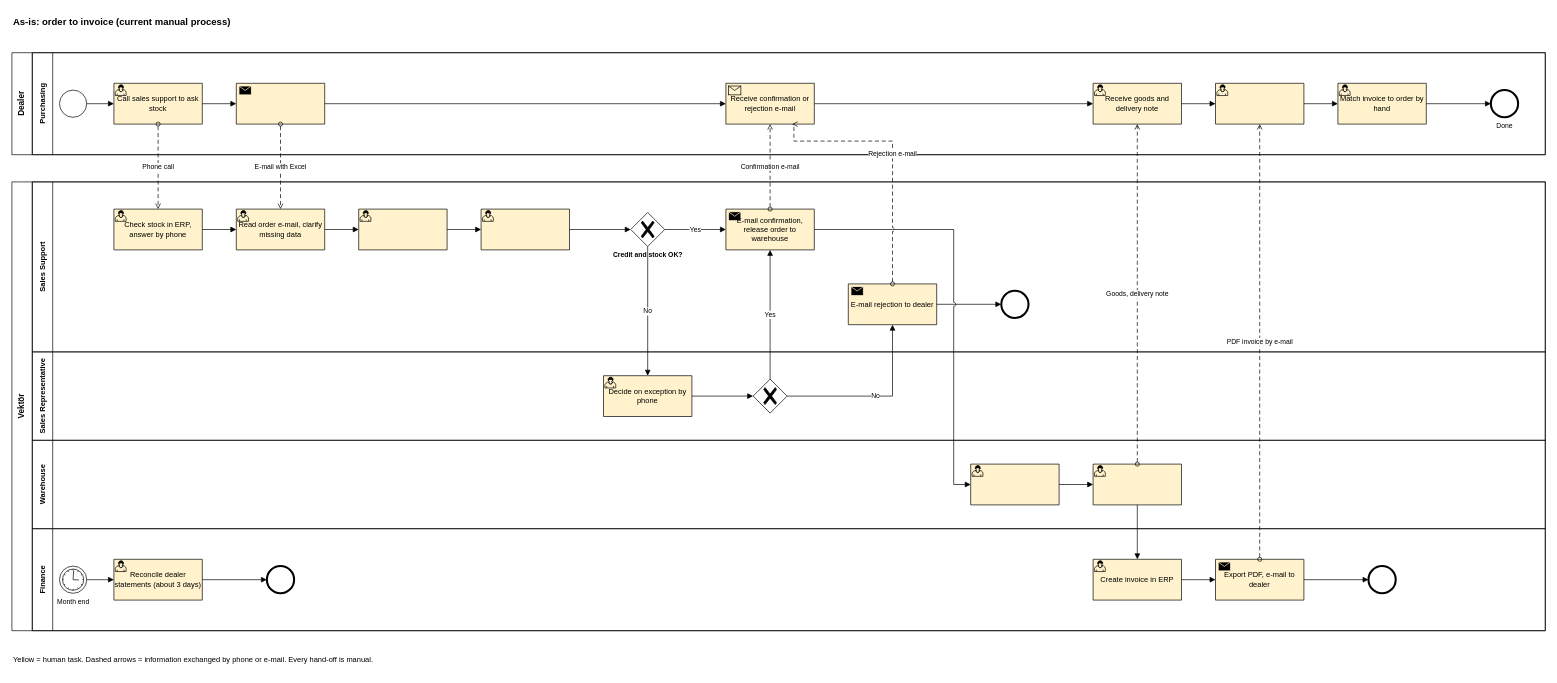
Some shapes in this 1557 by 683 pixel diagram are drawn without their labels. Here are the shapes that lost their labels. From the top down, the centre of each, then its label:
At pixel 73 103: "Need to restock".
At pixel 280 103: "Prepare order in Excel, send by e-mail".
At pixel 1259 103: "Key PDF invoice into own system".
At pixel 402 229: "Key order into ERP (about 25 min)".
At pixel 525 229: "Check credit limit and stock in ERP".
At pixel 1014 304: "Order rejected".
At pixel 769 395: "Approved?".
At pixel 1014 484: "Pick, pack and ship".
At pixel 1137 484: "Confirm shipment in ERP".
At pixel 280 579: "Reconciled".
At pixel 1382 579: "Invoice sent".
